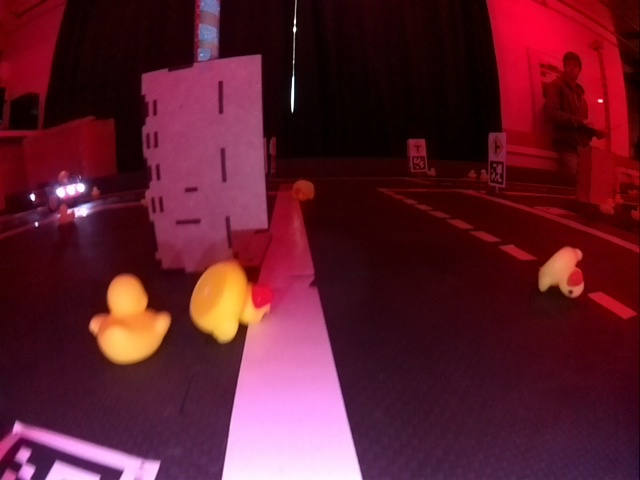Duckie: (89, 283, 166, 357), (193, 263, 267, 337), (539, 243, 586, 298), (292, 180, 315, 201), (58, 204, 75, 224), (92, 187, 100, 196)
Duckiebot: (41, 181, 88, 212)
Intersection sign: (488, 135, 504, 157), (411, 141, 425, 153)
QR code: (4, 422, 161, 478), (489, 161, 504, 184), (413, 156, 425, 170)
